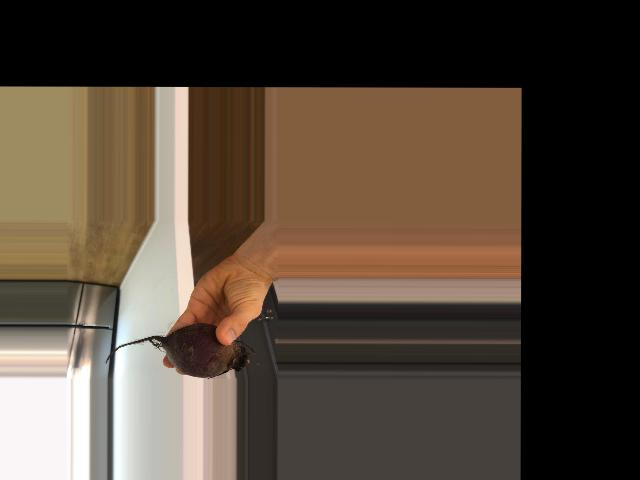beet: (105, 323, 254, 378)
